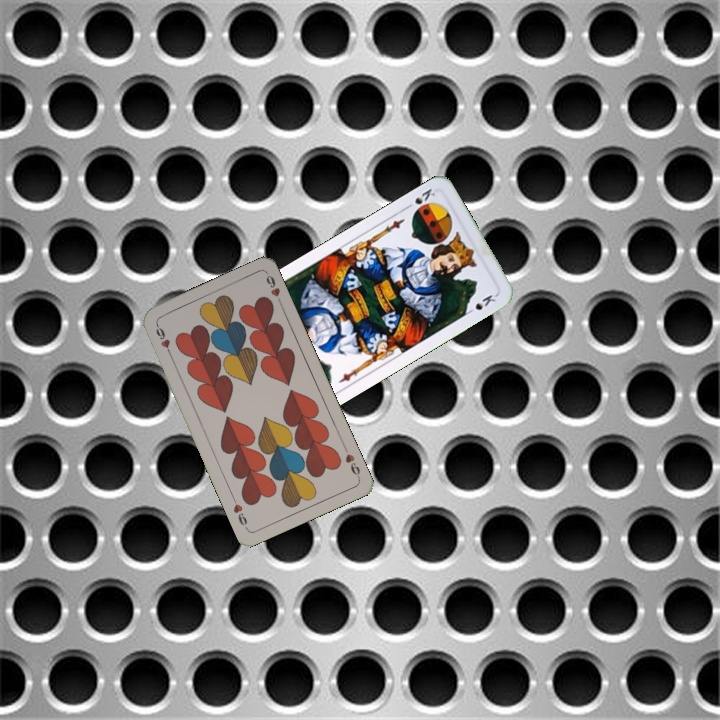H9: (340, 442, 363, 481), (152, 320, 174, 358)
SK: (401, 184, 438, 212)
